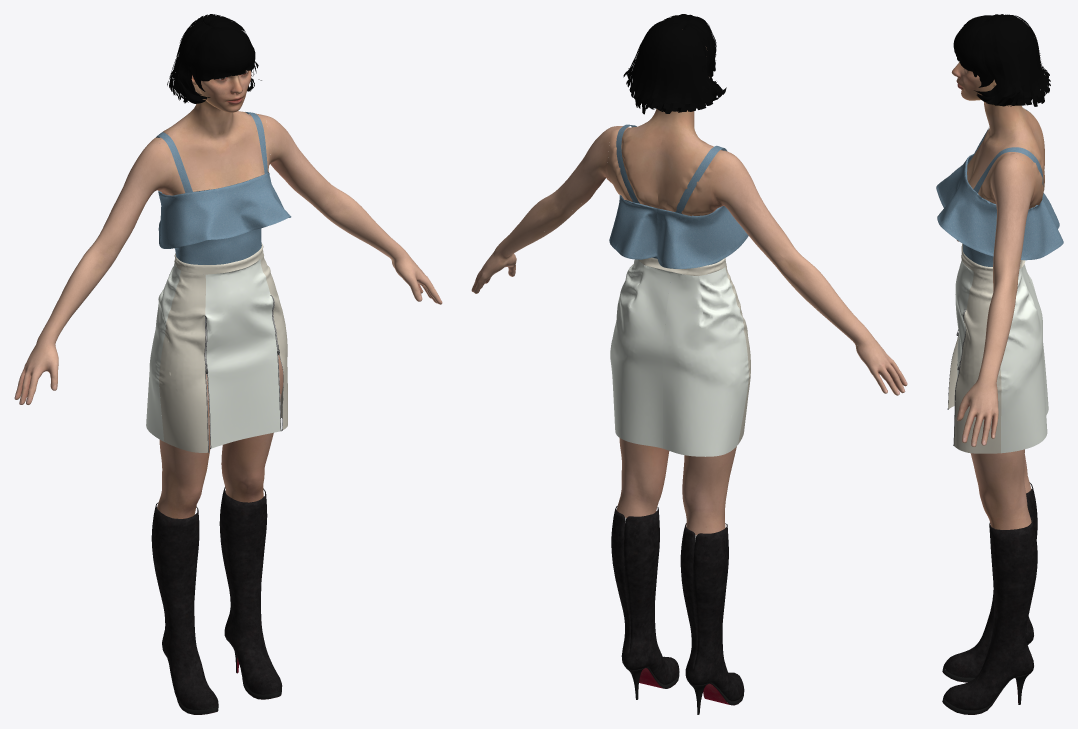
The picture shows the model from 3 angles, left to right: view 1: azimuth 30°, elevation 25°; view 2: azimuth 150°, elevation 25°; view 3: azimuth 270°, elevation 25°; orthographic projection.
Parts seen in each view (by area): view 1: Avatar, Cloth; view 2: Avatar, Cloth; view 3: Avatar, Cloth.
Part boxes in pixels (x1,y1,x2,y2): Avatar: [14, 14, 442, 714]; Cloth: [146, 112, 291, 452]; Avatar: [471, 14, 907, 714]; Cloth: [609, 124, 750, 456]; Avatar: [942, 14, 1050, 714]; Cloth: [936, 108, 1063, 453].
Size of the model in its own units: 1.1 by 1.68 by 0.2869.
Materials: 32 (29 with a texture image).
